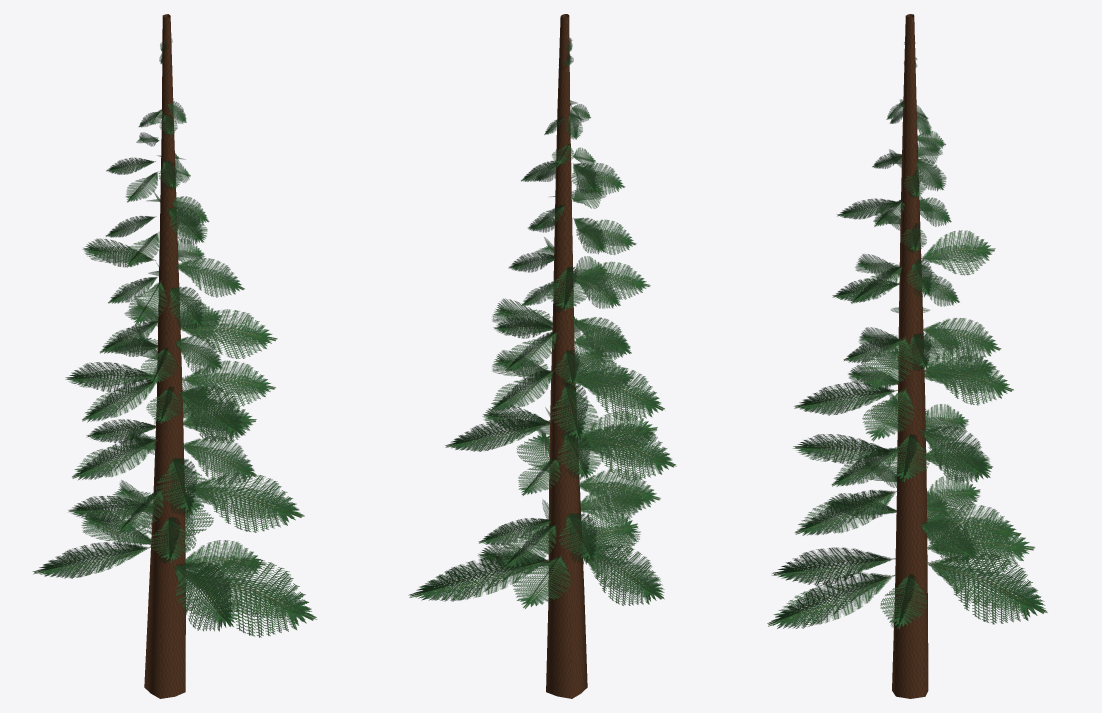
The model's file is pacific-redwood-wide-lod.glb.
The picture shows the model from 3 angles, left to right: view 1: azimuth 30°, elevation 25°; view 2: azimuth 150°, elevation 25°; view 3: azimuth 270°, elevation 25°; orthographic projection.
Visible parts, largest first — view 1: Redwood needle cards, Redwood ridged bark; view 2: Redwood needle cards, Redwood ridged bark; view 3: Redwood needle cards, Redwood ridged bark.
Part boxes in pixels (box(x1,y1,x2,y2)): Redwood needle cards: box(33, 38, 317, 637); Redwood ridged bark: box(144, 14, 185, 698); Redwood needle cards: box(408, 37, 676, 608); Redwood ridged bark: box(546, 14, 587, 698); Redwood needle cards: box(767, 41, 1047, 629); Redwood ridged bark: box(892, 14, 928, 698).
Bounding box in the file's own units: 10.32 × 25 × 12.04.
2 materials, 2 textured.
